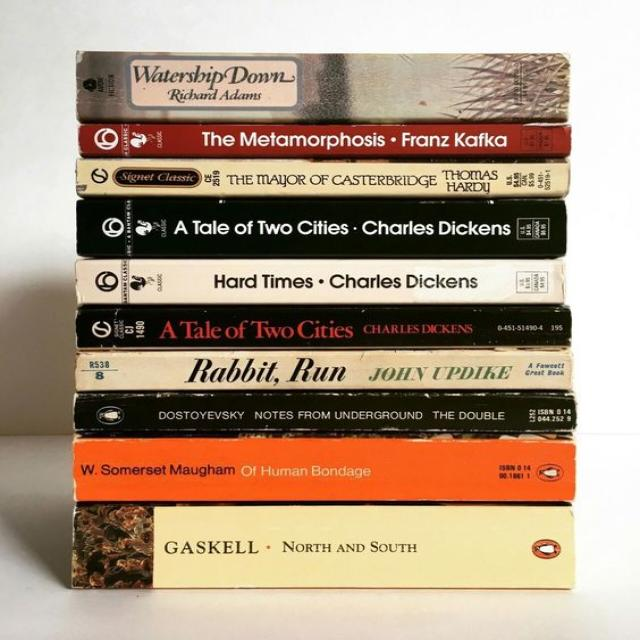book: (71, 506, 572, 589), (76, 51, 568, 120), (73, 441, 576, 501), (76, 200, 566, 256), (76, 262, 564, 305), (72, 393, 577, 432), (76, 158, 572, 197), (75, 308, 570, 347), (76, 123, 574, 158), (75, 353, 572, 388)
